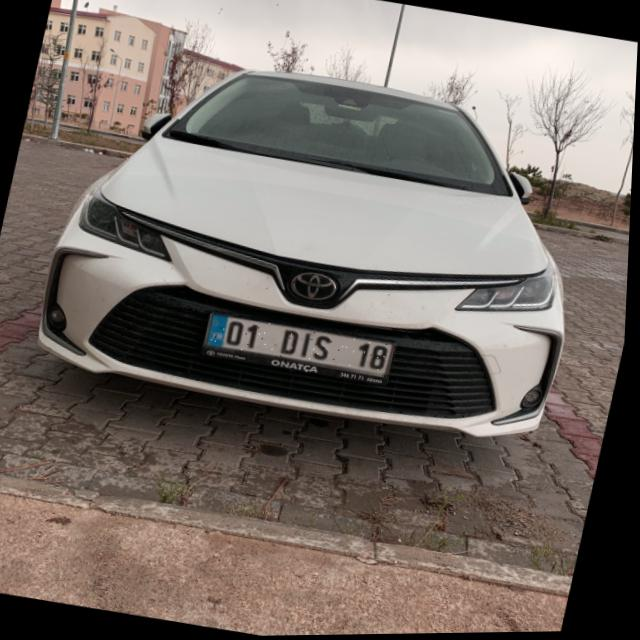license_plate: (205, 312, 399, 380)
